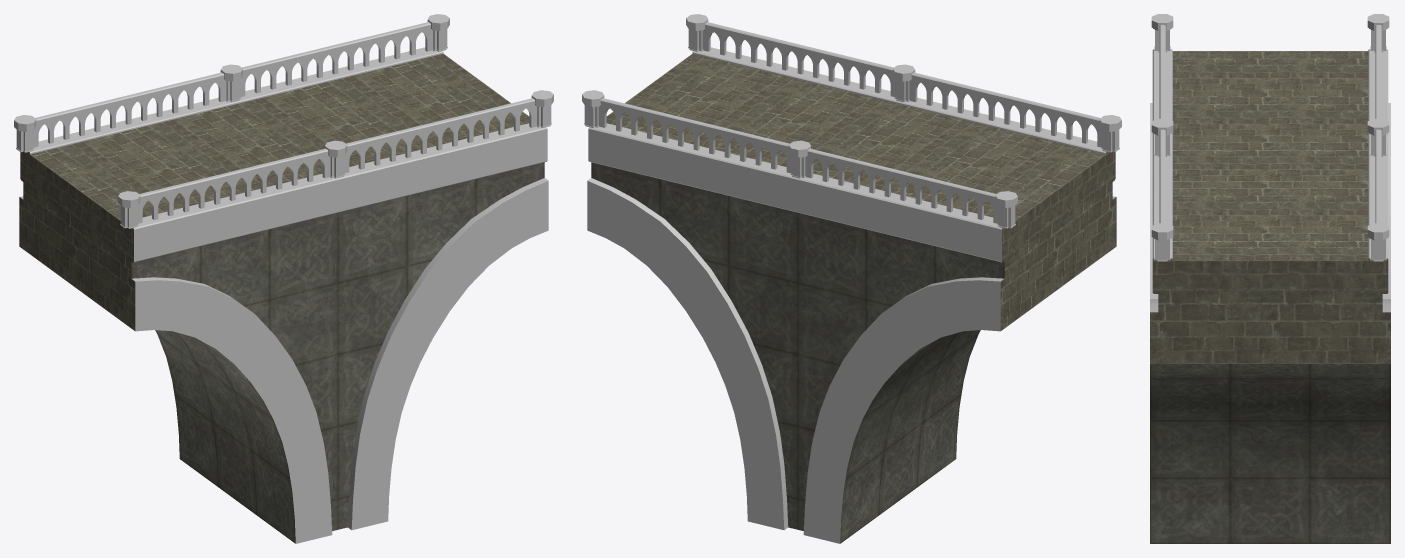
Rendered from bridge_mid_01.fbx.
3 views of the same model, side by side, from view 1: azimuth 30°, elevation 25°; view 2: azimuth 150°, elevation 25°; view 3: azimuth 270°, elevation 25° (orthographic). The views are drawn at different scales.
Parts seen in each view (by area): view 1: bridge_mid_01; view 2: bridge_mid_01; view 3: bridge_mid_01.
Part boxes in pixels (left/top/right/bottom): bridge_mid_01: left=14, top=14, right=553, bottom=543; bridge_mid_01: left=582, top=14, right=1121, bottom=543; bridge_mid_01: left=1150, top=14, right=1390, bottom=543.
Size of the model in its own units: 1670 by 1416 by 777.
